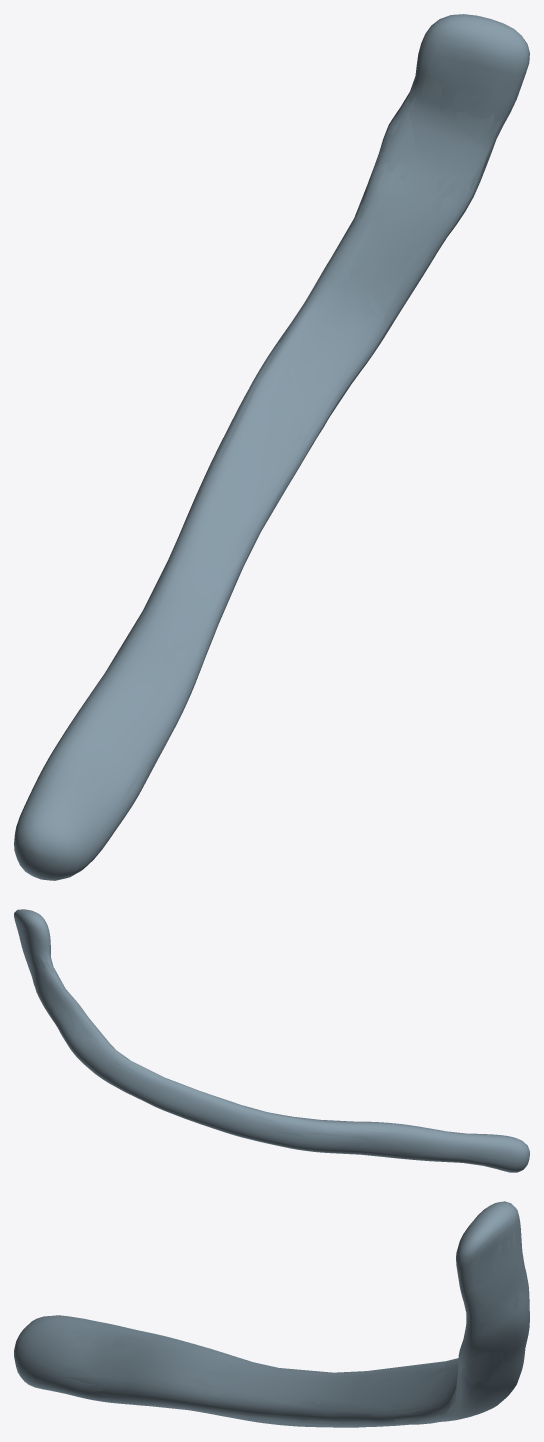
3 renders of one model, top to bottom at view 1: azimuth 30°, elevation 25°; view 2: azimuth 150°, elevation 25°; view 3: azimuth 270°, elevation 25°, orthographic. The views are drawn at different scales.
Parts seen in each view (by area): view 1: CC L08, CC L08 high, CC L08 low; view 2: CC L08 high, CC L08, CC L08 low; view 3: CC L08 high, CC L08, CC L08 low.
Boxes of the visible parts, box(x1,y1,x2,y2) form: CC L08: box(14, 14, 529, 880); CC L08 high: box(15, 14, 529, 879); CC L08 low: box(72, 77, 504, 802); CC L08 high: box(14, 910, 529, 1171); CC L08: box(14, 909, 529, 1172); CC L08 low: box(36, 948, 487, 1165); CC L08 high: box(14, 1202, 529, 1427); CC L08: box(14, 1201, 529, 1427); CC L08 low: box(65, 1252, 525, 1423).
Size of the model in its own units: 15.08 by 9.99 by 9.99.
